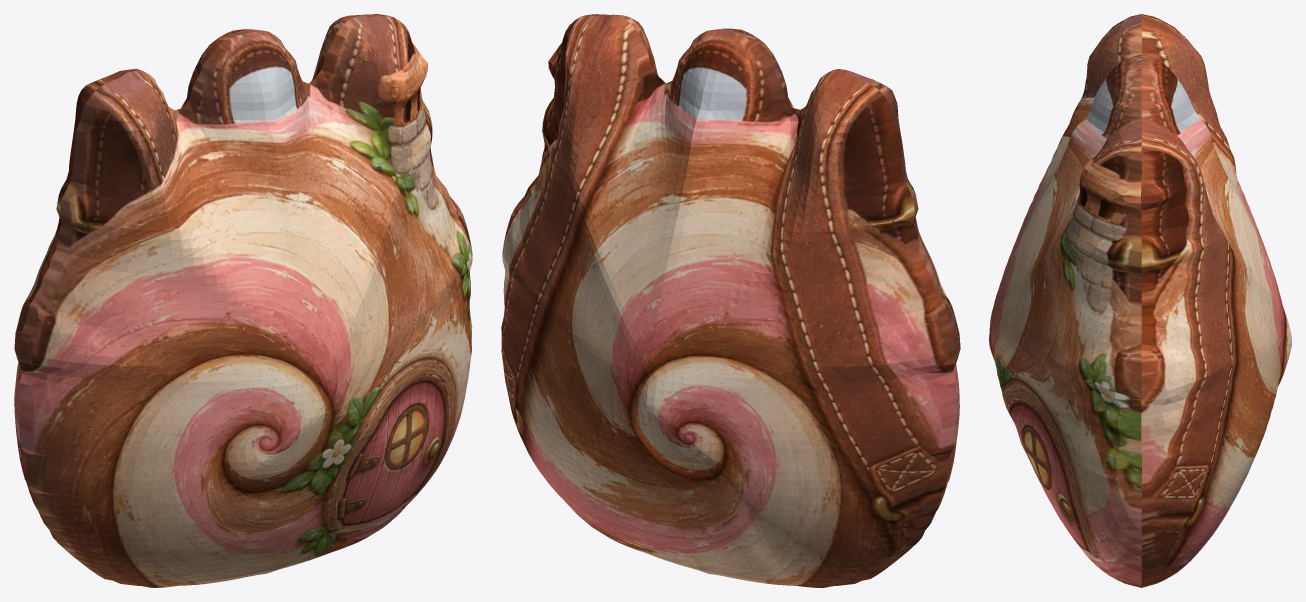
The model's file is snail_shell.glb.
3 views of the same model, side by side, from view 1: azimuth 30°, elevation 25°; view 2: azimuth 150°, elevation 25°; view 3: azimuth 270°, elevation 25° (orthographic). The views are drawn at different scales.
Parts seen in each view (by area): view 1: geometry_0; view 2: geometry_0; view 3: geometry_0.
Part boxes in pixels (box(x1,y1,x2,y2)): geometry_0: box(14, 14, 472, 587); geometry_0: box(501, 14, 960, 587); geometry_0: box(989, 14, 1291, 587).
Size of the model in its own units: 0.8578 by 0.9785 by 0.5604.
Materials: 1 (1 with a texture image).
